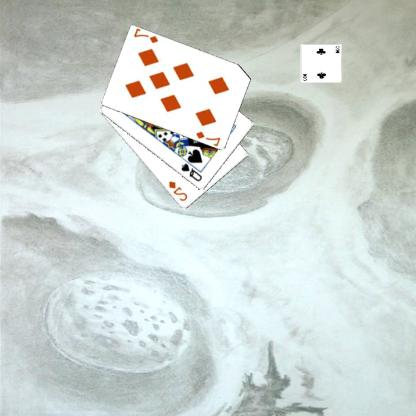2D: (168, 179, 190, 203)
7D: (133, 27, 161, 45), (195, 129, 223, 146)
QS: (180, 161, 205, 183)
